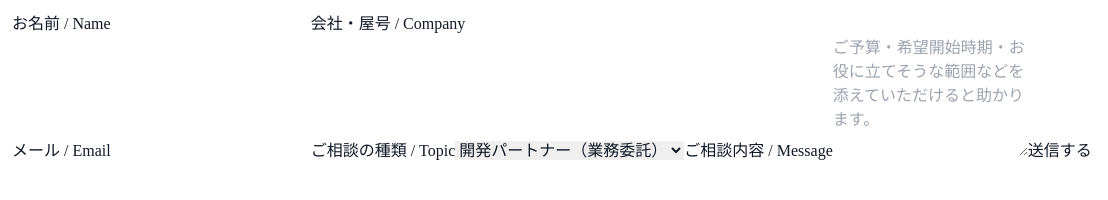
it: Phase 6: ContactForm — submission › falls back to a generic error when the server returns non-JSON
The image size is (1108, 200).
Type "x" into the field labelled "お名前 / Name". click: (211, 24)
box: x1=111 y1=12 x2=311 y2=36
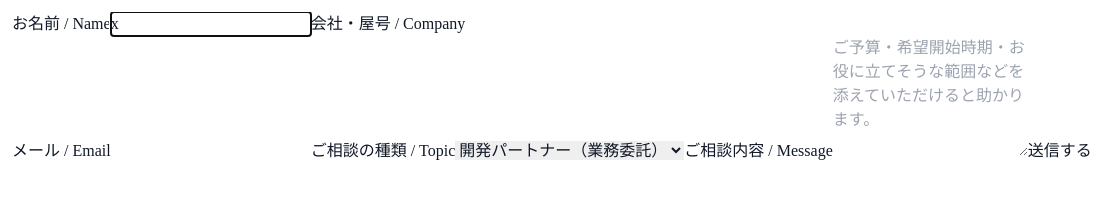
Type "a@b.co" into the field labelled "メール / Email". click: (211, 151)
box: x1=111 y1=139 x2=311 y2=163
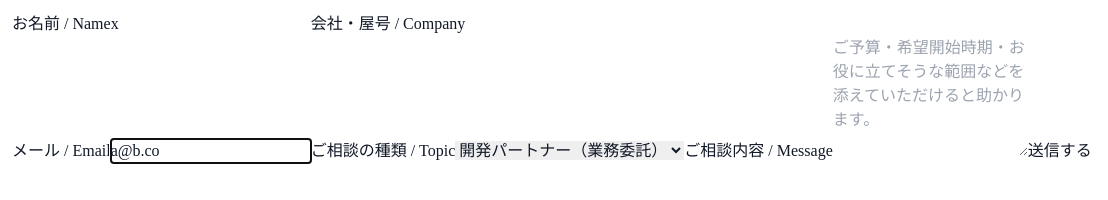
Type "hi" into the text box labelled "ご相談内容 / Message". click: (930, 96)
box: x1=833 y1=36 x2=1028 y2=156
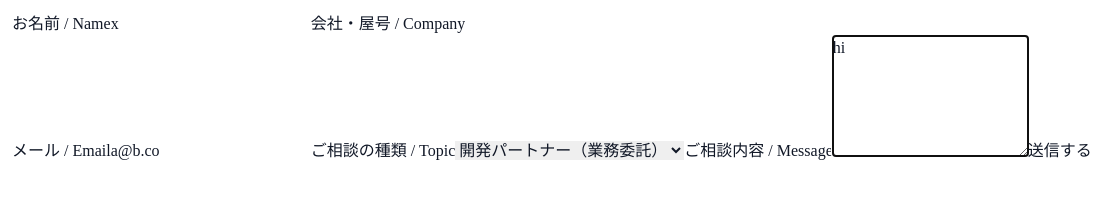
Click the button "送信する". click: (1060, 151)
box: x1=1028 y1=139 x2=1092 y2=163
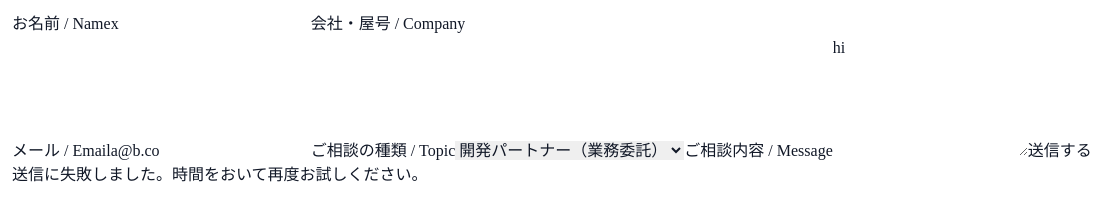
Expected: the message shows "送信", x1=12 y1=166 x2=428 y2=183
